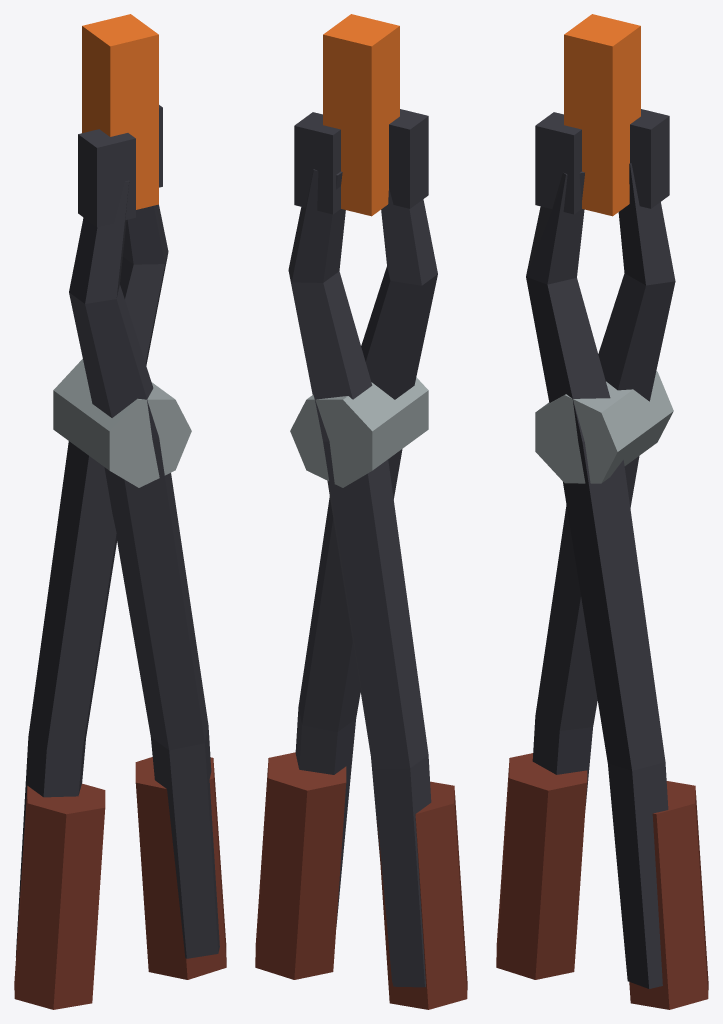
Rendered from held_pliers.glb.
3 renders of one model, left to right at view 1: azimuth 30°, elevation 25°; view 2: azimuth 150°, elevation 25°; view 3: azimuth 330°, elevation 25°, orthographic.
Parts seen in each view (by area): view 1: held_pliers; view 2: held_pliers; view 3: held_pliers.
Part boxes in pixels (left/top/right/bottom): held_pliers: left=14, top=14, right=226, bottom=1009; held_pliers: left=255, top=14, right=467, bottom=1009; held_pliers: left=496, top=14, right=708, bottom=1009.
Size of the model in its own units: 0.1958 by 0.8375 by 0.0933.
